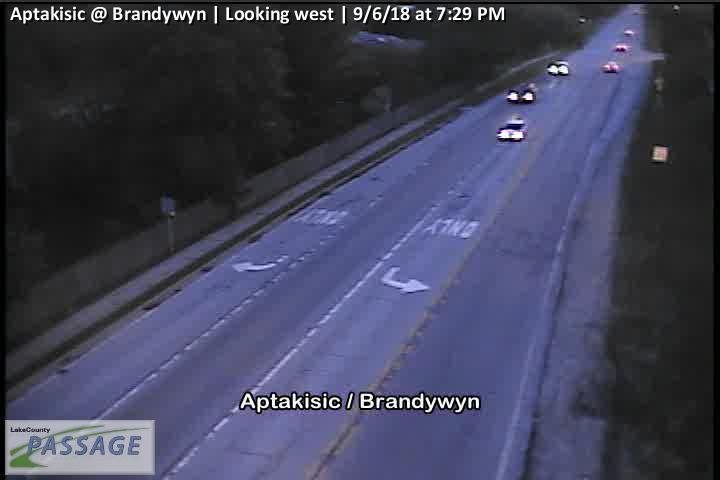Sedan: (496, 120, 528, 141), (507, 87, 536, 103), (547, 61, 569, 74), (602, 60, 622, 73), (614, 42, 632, 52), (623, 25, 636, 37)
